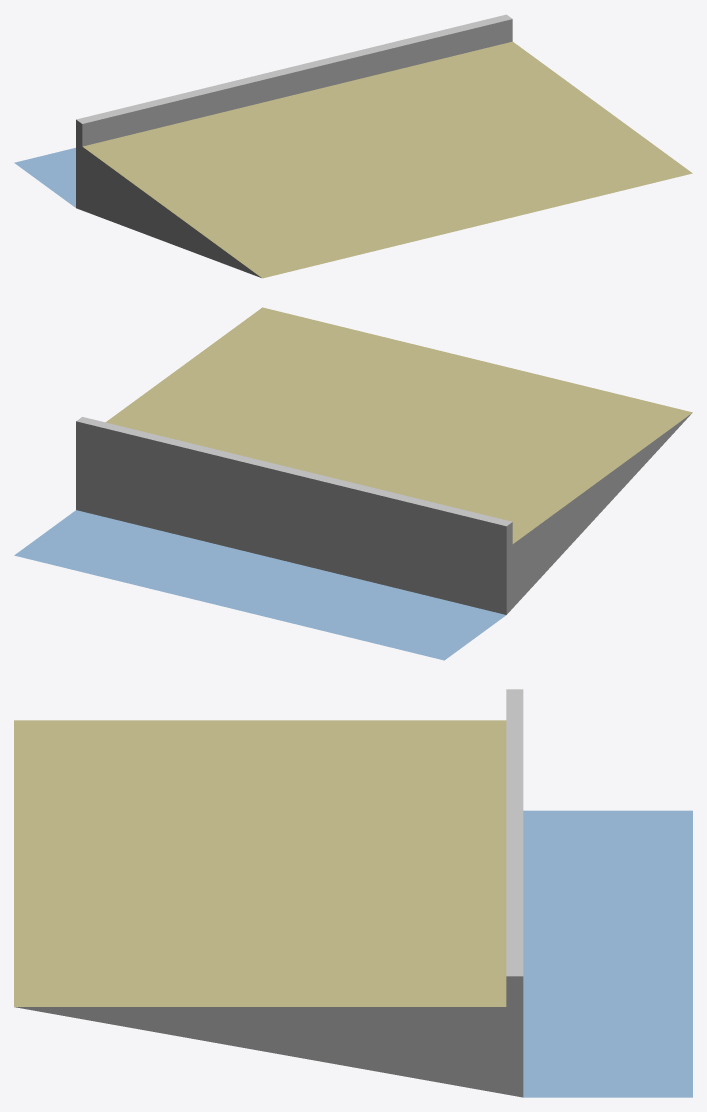
The model's file is port_tile_1x1_001.fbx.
3 renders of one model, top to bottom at view 1: azimuth 30°, elevation 25°; view 2: azimuth 150°, elevation 25°; view 3: azimuth 270°, elevation 25°, orthographic. The views are drawn at different scales.
Visible parts, largest first — view 1: port_tile_1x1_001; view 2: port_tile_1x1_001; view 3: port_tile_1x1_001.
Part boxes in pixels (left/top/right/bottom): port_tile_1x1_001: left=14, top=14, right=692, bottom=278; port_tile_1x1_001: left=14, top=307, right=692, bottom=660; port_tile_1x1_001: left=14, top=689, right=692, bottom=1097.
Bounding box in the file's own units: 800 × 158 × 800.
